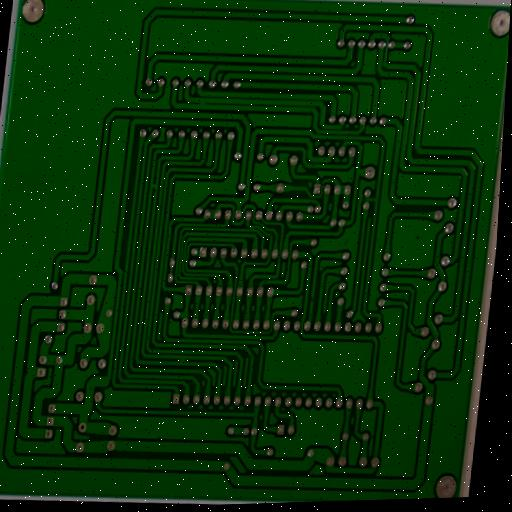short_circuit: (364, 191, 380, 208), (197, 97, 210, 111), (176, 353, 189, 366), (149, 179, 160, 191), (248, 224, 257, 232)
